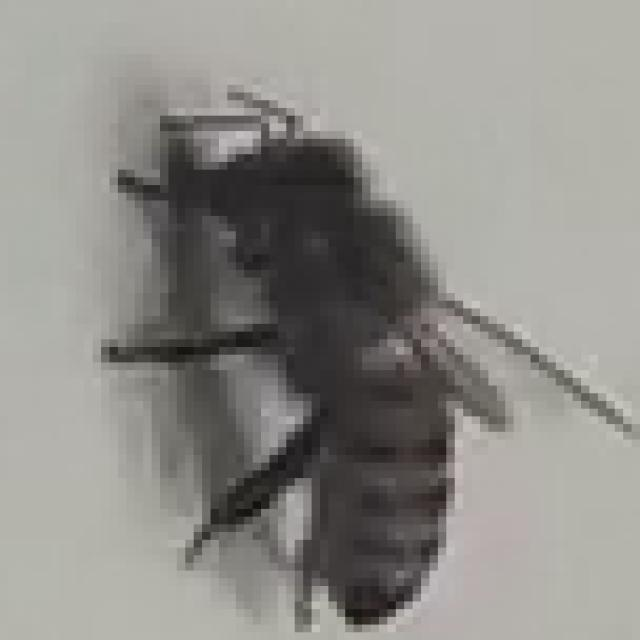honeybee: (92, 77, 474, 623)
